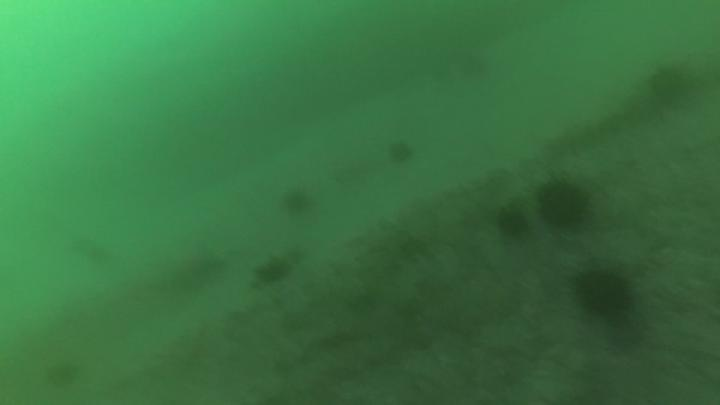echinus: (572, 266, 636, 322), (534, 176, 593, 231), (646, 62, 695, 109), (251, 253, 294, 288), (453, 48, 493, 84), (494, 205, 532, 241), (42, 358, 81, 391), (279, 185, 316, 218), (385, 138, 416, 166)
